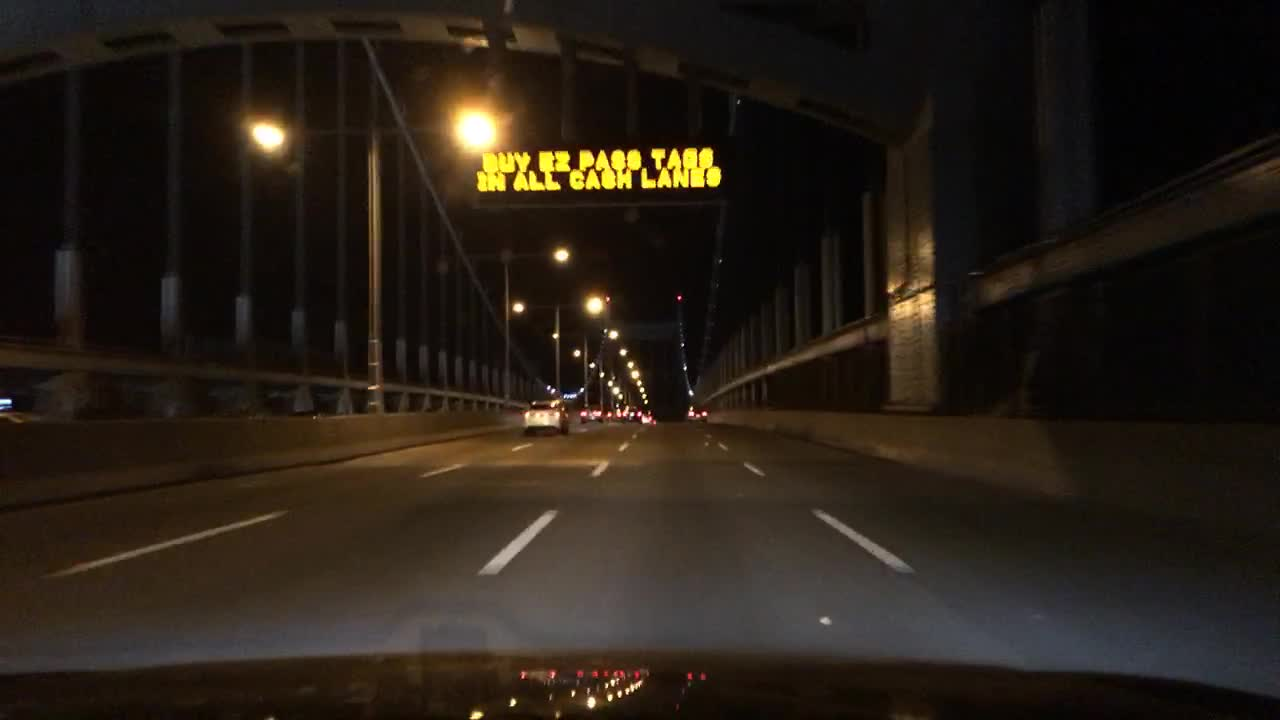car: (521, 398, 569, 435), (579, 403, 602, 423), (689, 405, 709, 422), (623, 406, 640, 419), (604, 408, 622, 420), (641, 413, 657, 422)
